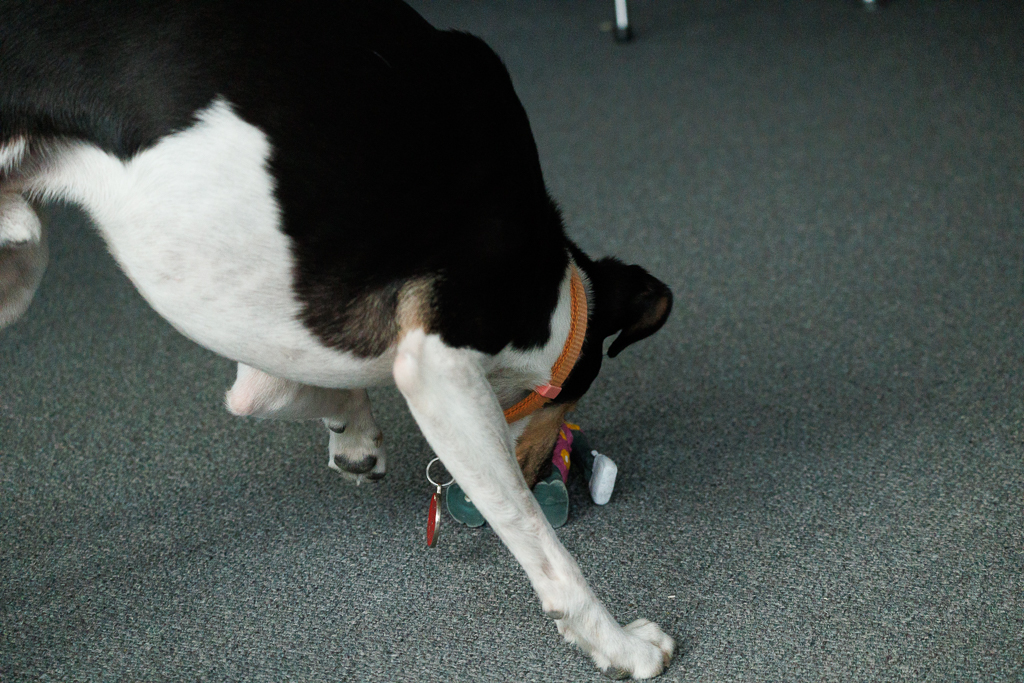Dog: (0, 0, 691, 683)
Humanoid: (436, 398, 621, 537)
